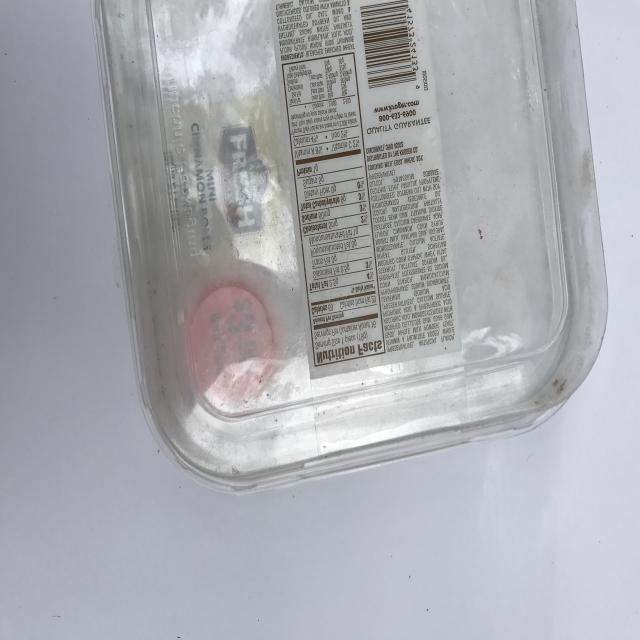plastic: (91, 0, 609, 495)
